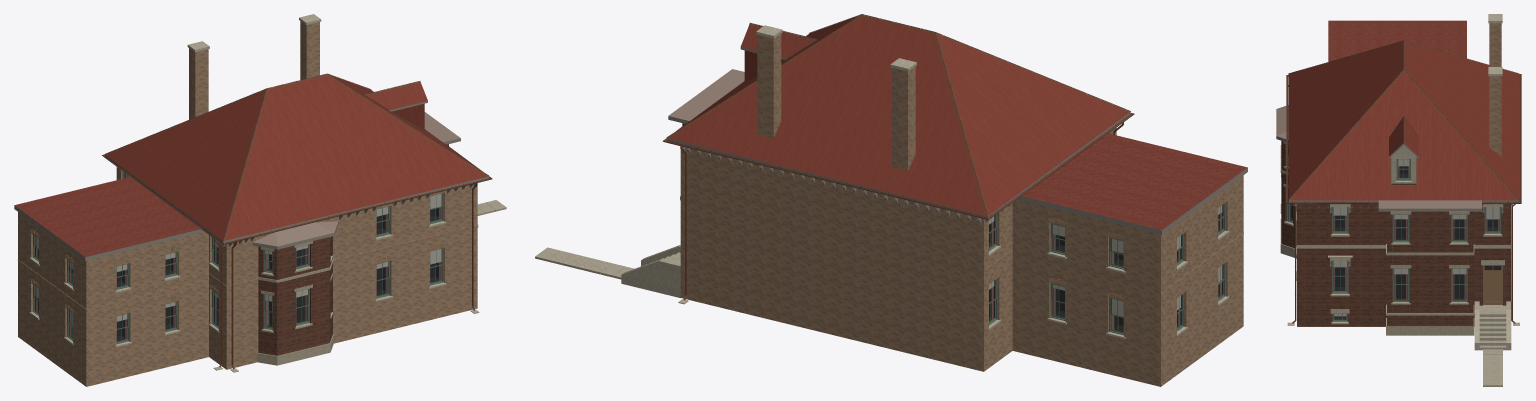
The model's file is house_2027_prairie__as_mapped_1904.glb.
The picture shows the model from 3 angles, left to right: view 1: azimuth 30°, elevation 25°; view 2: azimuth 150°, elevation 25°; view 3: azimuth 270°, elevation 25°; orthographic projection. The views are drawn at different scales.
Visible parts, largest first — view 1: house_2027_prairie__as_mapped_1904; view 2: house_2027_prairie__as_mapped_1904; view 3: house_2027_prairie__as_mapped_1904.
Part boxes in pixels (x1=…): house_2027_prairie__as_mapped_1904: x1=14, y1=14, x2=506, y2=386; house_2027_prairie__as_mapped_1904: x1=535, y1=14, x2=1247, y2=386; house_2027_prairie__as_mapped_1904: x1=1276, y1=14, x2=1521, y2=386.
Size of the model in its own units: 33.73 by 14.96 by 14.69.
25 materials, 14 textured.
